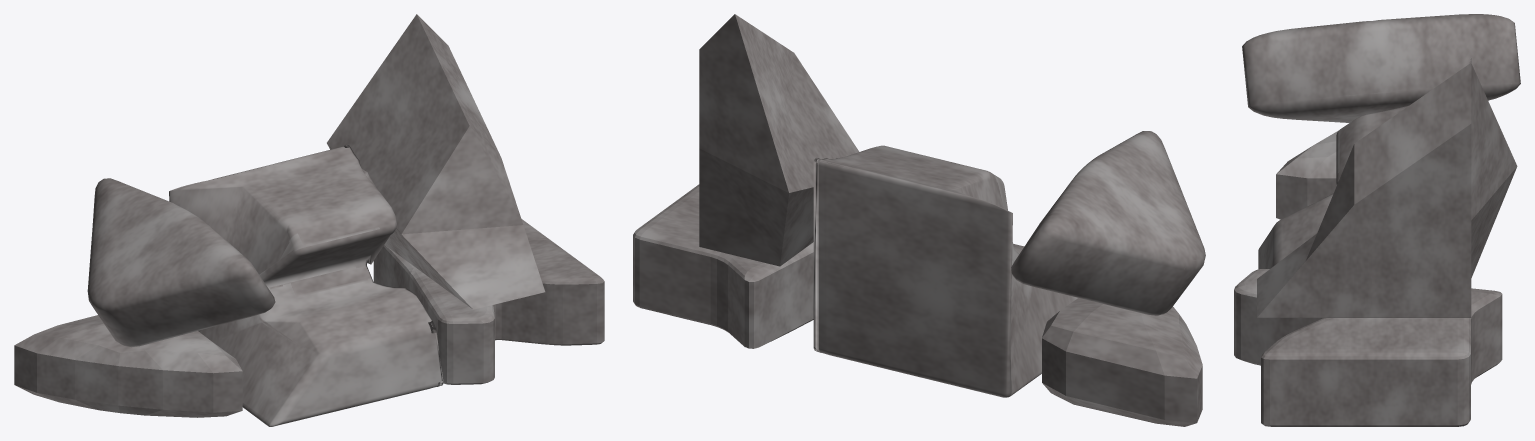
Rendered from rockDebree.fbx.
The picture shows the model from 3 angles, left to right: view 1: azimuth 30°, elevation 25°; view 2: azimuth 150°, elevation 25°; view 3: azimuth 270°, elevation 25°; orthographic projection. The views are drawn at different scales.
Parts seen in each view (by area): view 1: concreteDebree; view 2: concreteDebree; view 3: concreteDebree.
Part boxes in pixels (left/top/right/bottom): concreteDebree: left=14, top=14, right=604, bottom=426; concreteDebree: left=633, top=14, right=1205, bottom=426; concreteDebree: left=1234, top=14, right=1520, bottom=426.
Size of the model in its own units: 599 by 326 by 268.
1 material, 1 textured.
